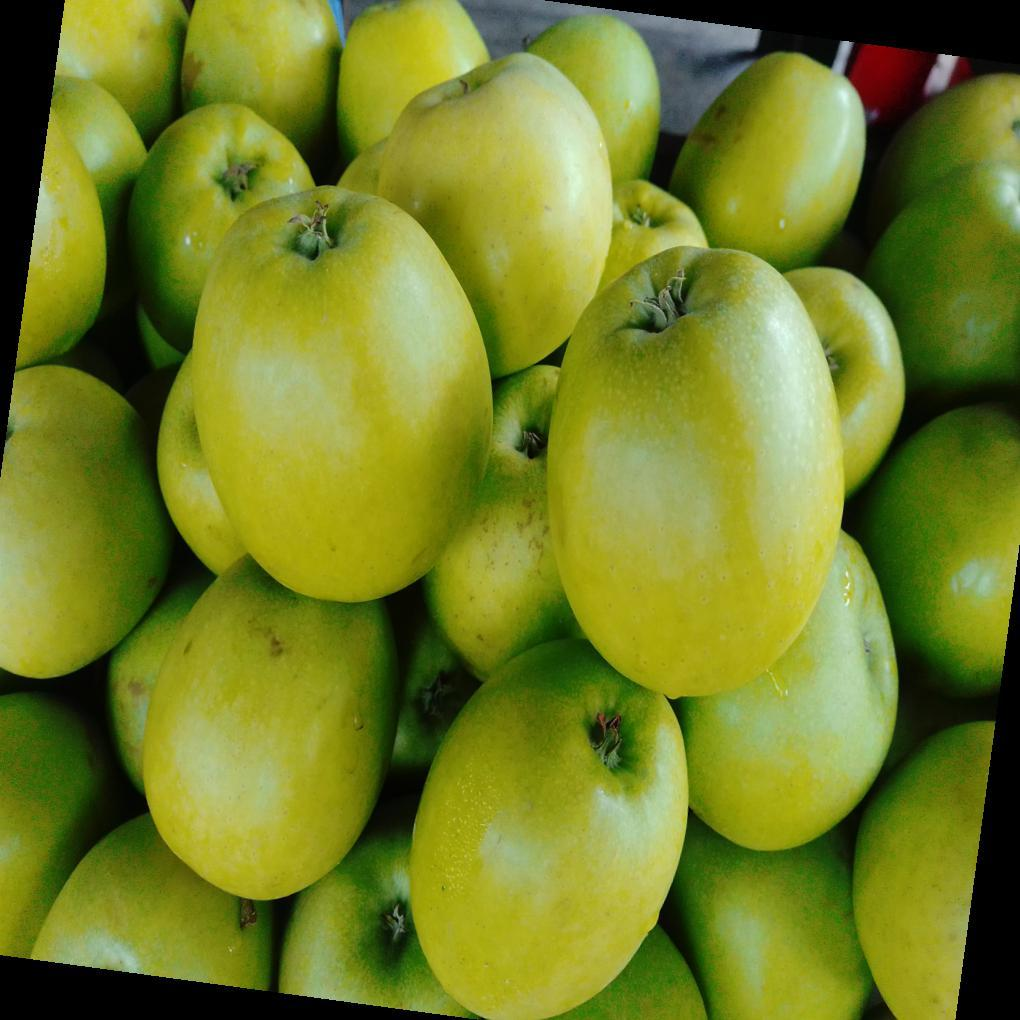FreshGuava: (0, 0, 960, 901)
